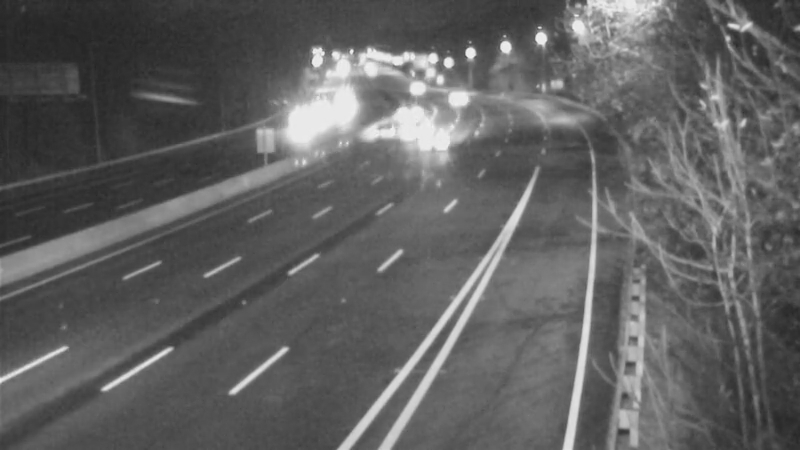vehicle: (427, 68, 477, 118), (380, 78, 430, 128), (392, 103, 442, 153), (357, 105, 407, 155), (413, 111, 463, 161), (271, 106, 321, 156), (321, 71, 371, 121)
